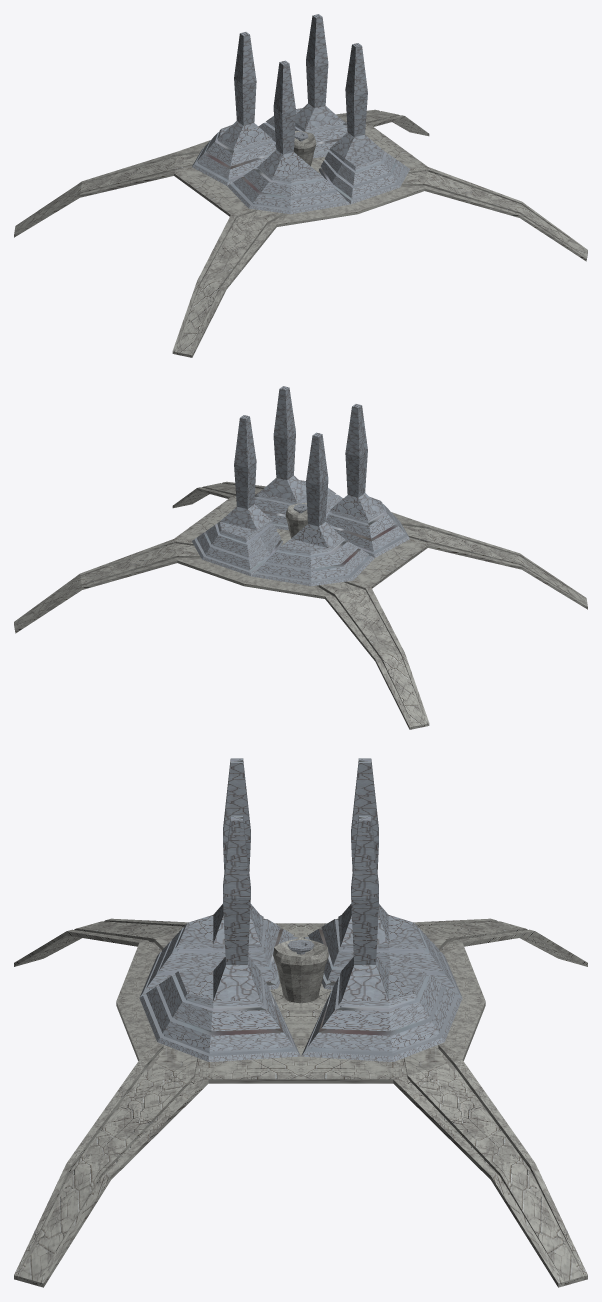
Rendered from tomb.fbx.
3 views of the same model, one above another, from view 1: azimuth 30°, elevation 25°; view 2: azimuth 150°, elevation 25°; view 3: azimuth 270°, elevation 25° (orthographic). The views are drawn at different scales.
Parts seen in each view (by area): view 1: Pillars, Countour, Vase; view 2: Pillars, Countour, Vase; view 3: Countour, Pillars, Vase.
Part boxes in pixels (x1,y1,x2,y2): Pillars: (192, 14, 409, 214); Countour: (14, 109, 587, 357); Vase: (294, 131, 316, 166); Pillars: (192, 386, 409, 586); Countour: (14, 481, 587, 729); Vase: (285, 503, 307, 538); Countour: (14, 918, 587, 1287); Pillars: (139, 758, 462, 1061); Vase: (273, 938, 328, 1003).
Size of the model in its own units: 421 by 199 by 311.
2 materials, 2 textured.
